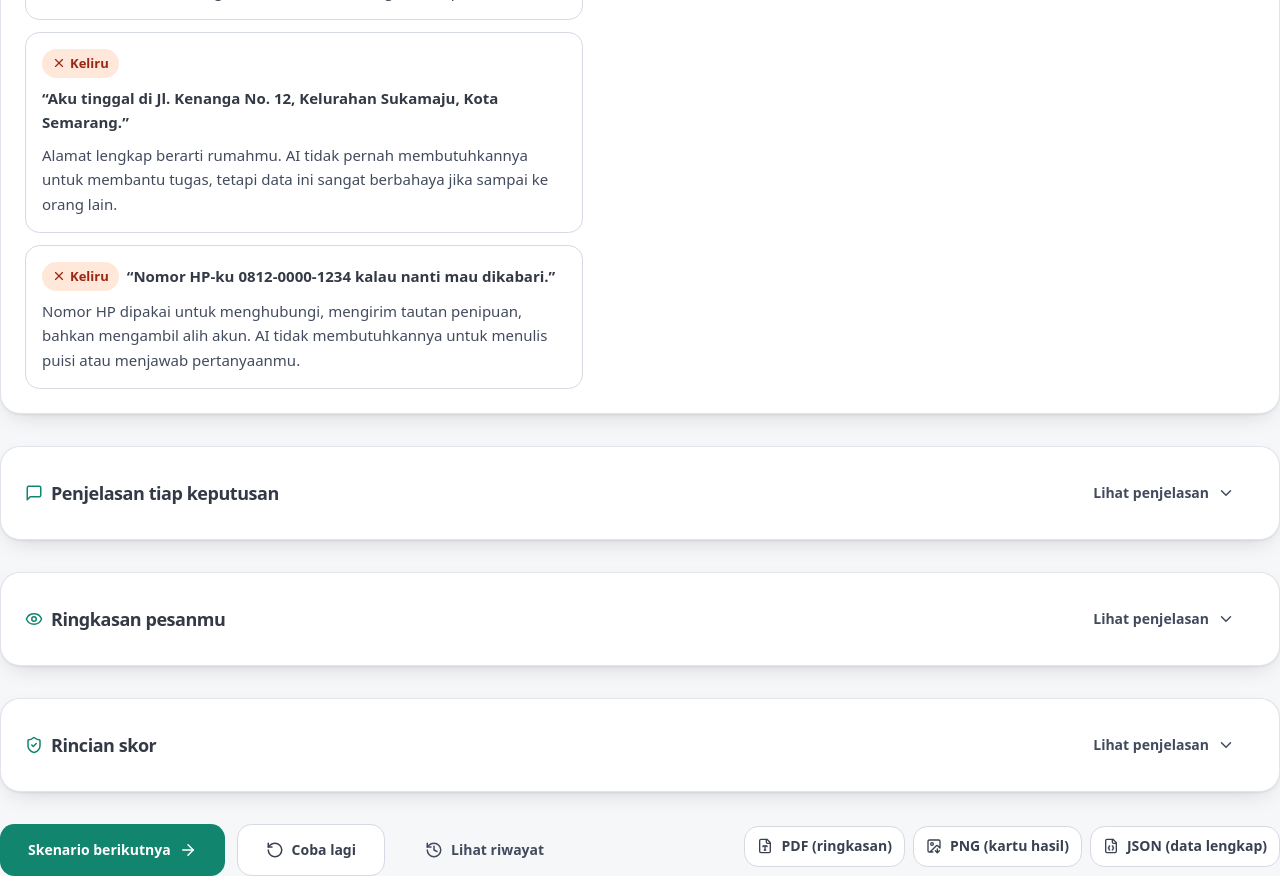
Test: ResultPage — ekspor › menampilkan pesan gagal bila proses ekspor melempar error
(page scrolled)
Click the button "PDF (ringkasan)" at (825, 846), box 744,826 -> 905,867
(page scrolled)
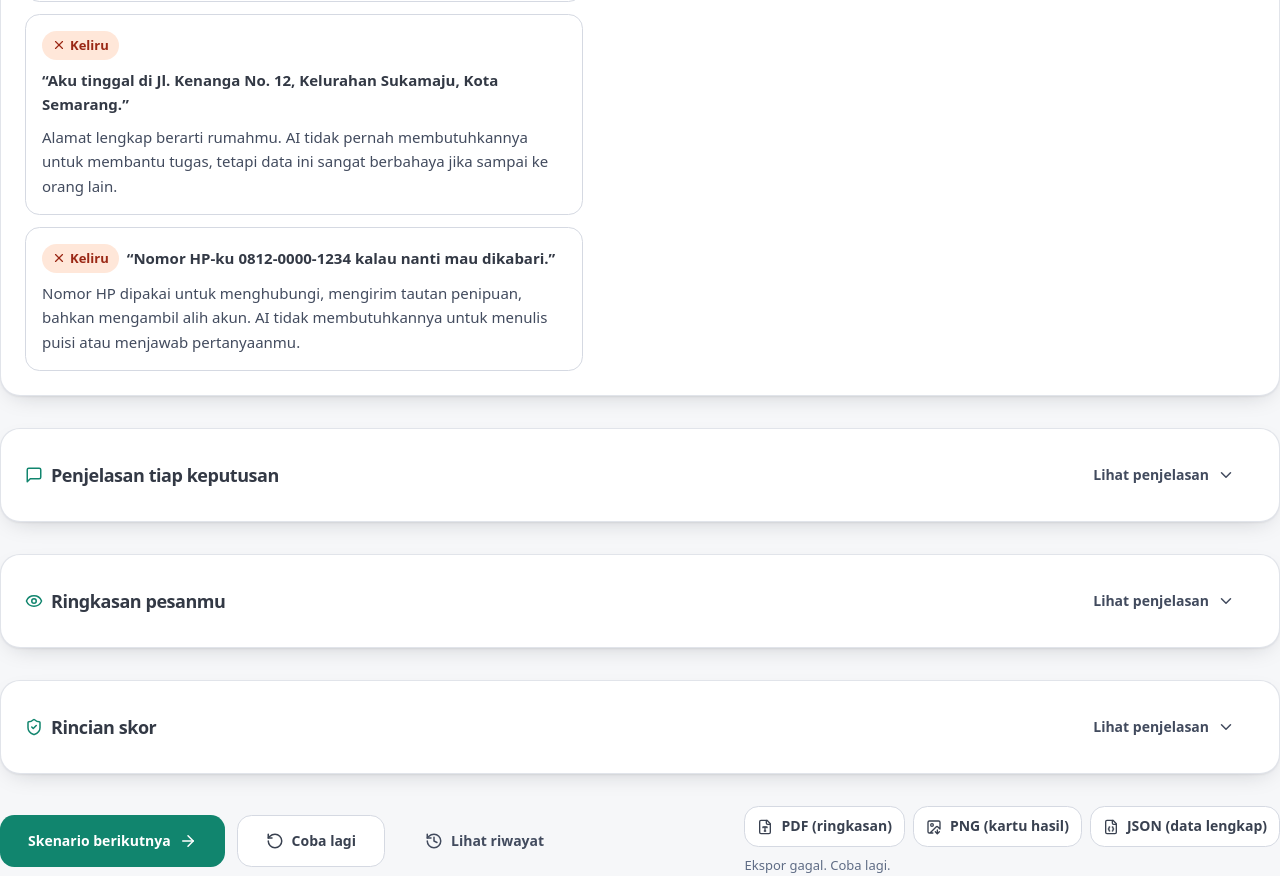
Expected: the text "Ekspor gagal. Coba lagi." is shown, 744,856 -> 890,874
